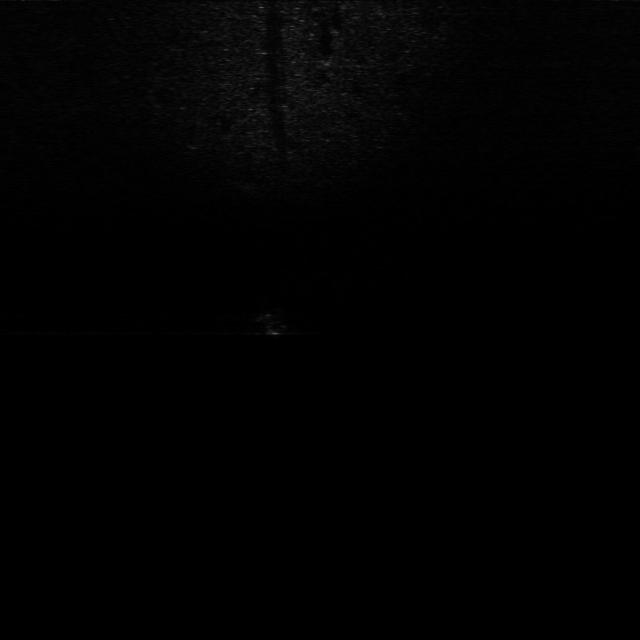human body: (250, 309, 298, 340)
